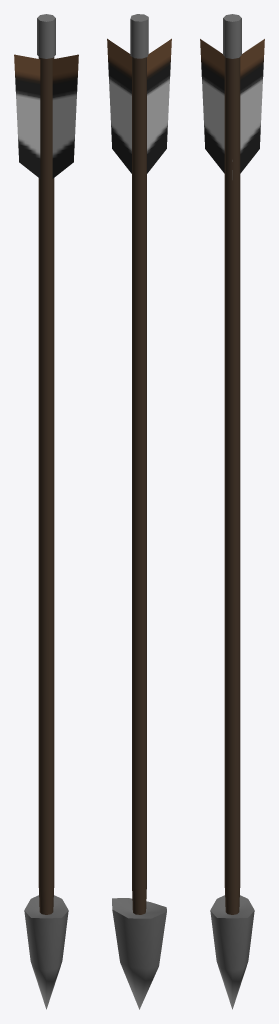
The model's file is Arrow.fbx.
3 views of the same model, side by side, from view 1: azimuth 90°, elevation 25°; view 2: azimuth 150°, elevation 25°; view 3: azimuth 270°, elevation 25° (orthographic).
Visible parts, largest first — view 1: Arrow; view 2: Arrow; view 3: Arrow.
Boxes of the visible parts, x1=… form: Arrow: x1=14, y1=14, x2=78, y2=1009; Arrow: x1=107, y1=14, x2=171, y2=1009; Arrow: x1=200, y1=14, x2=264, y2=1009.
Size of the model in its own units: 15.22 by 241 by 14.28.
1 material, 1 textured.
